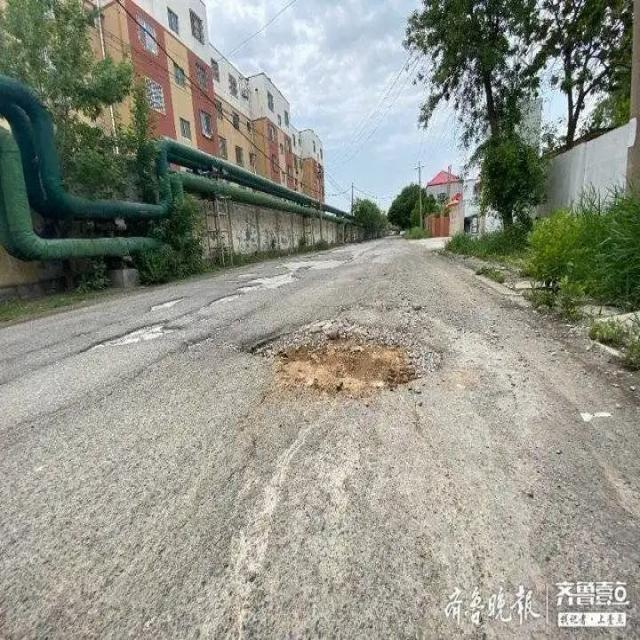pothole: (265, 335, 442, 406)
